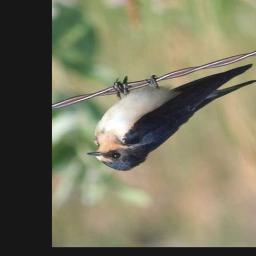Swallow: (85, 59, 256, 174)
